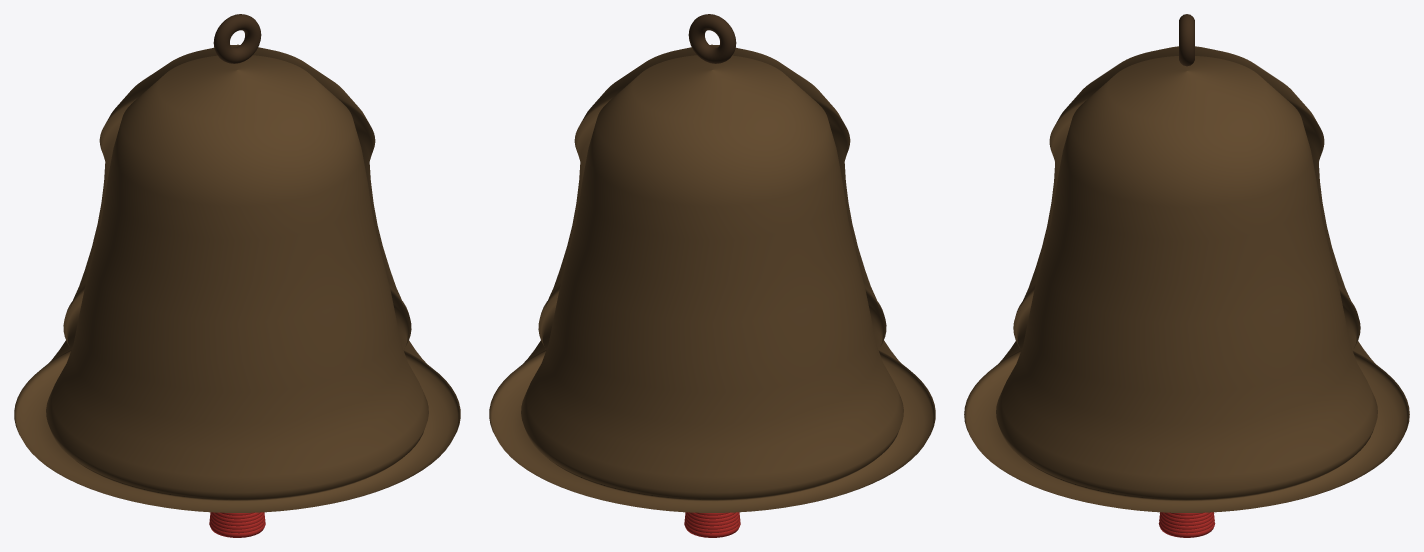
File: bell.glb
3 renders of one model, left to right at view 1: azimuth 30°, elevation 25°; view 2: azimuth 150°, elevation 25°; view 3: azimuth 270°, elevation 25°, orthographic.
Visible parts, largest first — view 1: bell-body, bell-eyelet; view 2: bell-body, bell-eyelet; view 3: bell-body, bell-eyelet.
Boxes of the visible parts, bbox=[...] form: bell-body: bbox=[14, 44, 460, 512]; bell-eyelet: bbox=[213, 14, 261, 63]; bell-body: bbox=[489, 44, 935, 512]; bell-eyelet: bbox=[688, 14, 736, 63]; bell-body: bbox=[964, 46, 1409, 512]; bell-eyelet: bbox=[1179, 14, 1194, 66].
Bounding box in the file's own units: 0.308 × 0.39 × 0.308.
